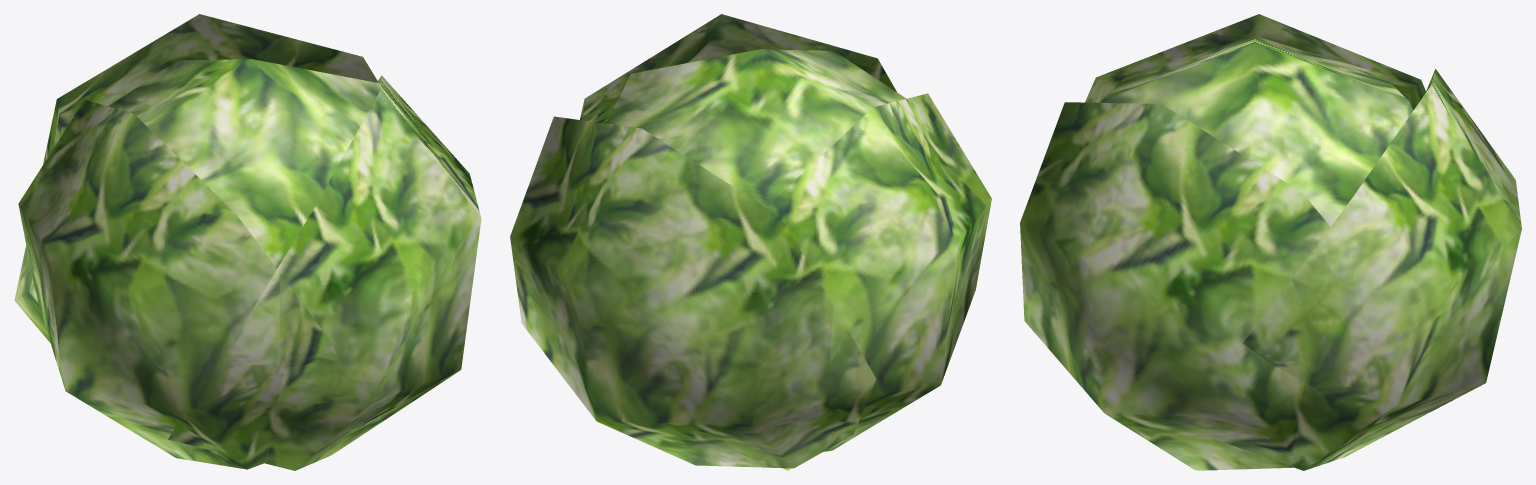
File: Lettuce.fbx
The picture shows the model from 3 angles, left to right: view 1: azimuth 30°, elevation 25°; view 2: azimuth 150°, elevation 25°; view 3: azimuth 270°, elevation 25°; orthographic projection. The views are drawn at different scales.
Visible parts, largest first — view 1: Lettuce; view 2: Lettuce; view 3: Lettuce.
Part boxes in pixels (x1,y1,x2,y2): Lettuce: [14, 14, 481, 470]; Lettuce: [510, 14, 991, 470]; Lettuce: [1020, 14, 1521, 470].
Bounding box in the file's own units: 0.3896 × 0.3637 × 0.41.
